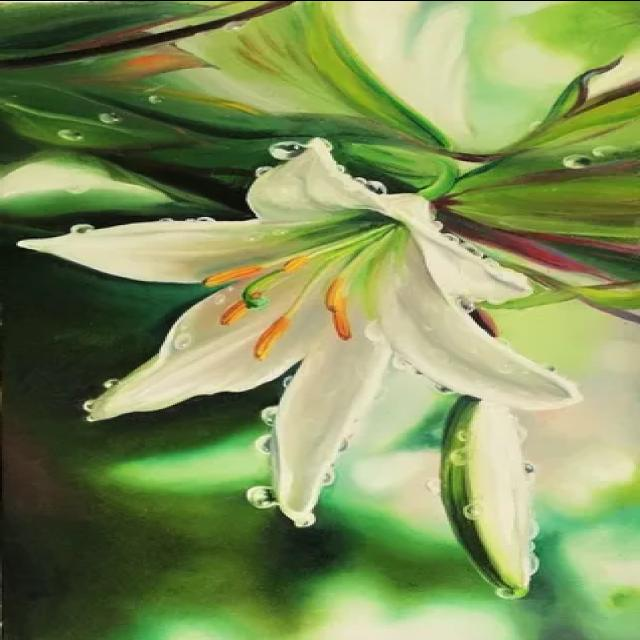lily: (11, 119, 594, 540)
